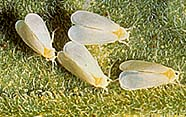whitefly: (56, 40, 114, 94), (67, 9, 133, 50), (13, 12, 57, 62), (118, 60, 178, 93)
